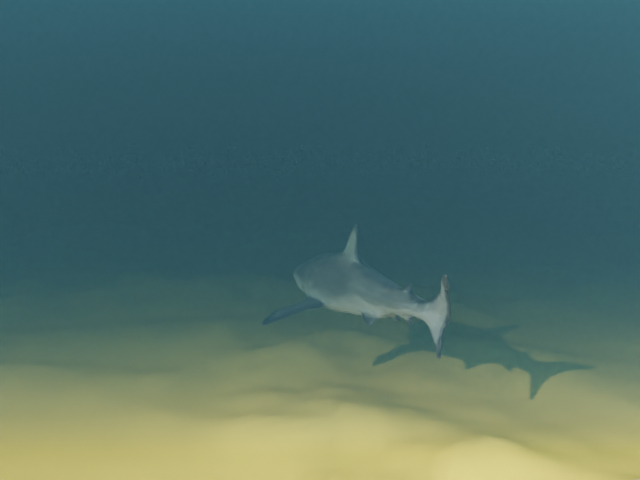Carribean Shark.001: (261, 223, 451, 359)
